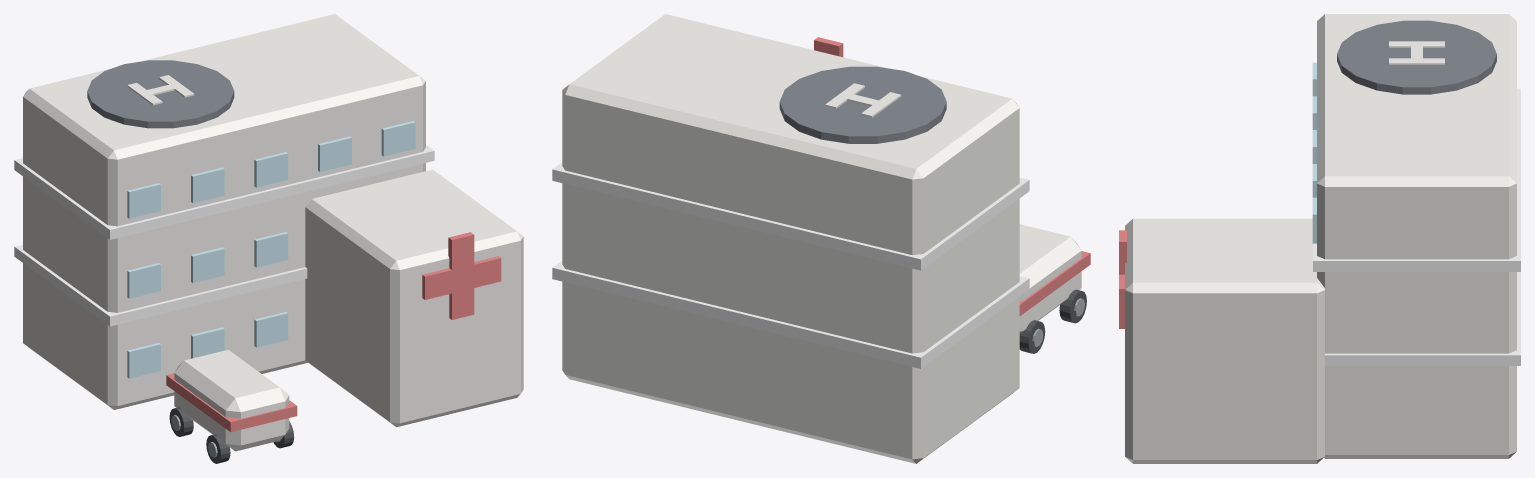
The model's file is hospital_3.glb.
The picture shows the model from 3 angles, left to right: view 1: azimuth 30°, elevation 25°; view 2: azimuth 150°, elevation 25°; view 3: azimuth 270°, elevation 25°; orthographic projection. The views are drawn at different scales.
Parts seen in each view (by area): view 1: main; view 2: main; view 3: main.
Part boxes in pixels (box(x1,y1,x2,y2)): main: box(14, 14, 523, 463); main: box(552, 14, 1090, 463); main: box(1119, 14, 1520, 463).
Size of the model in its own units: 1.04 by 0.805 by 1.
